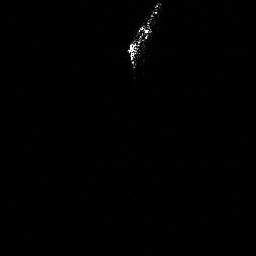ship: (123, 1, 165, 73)
